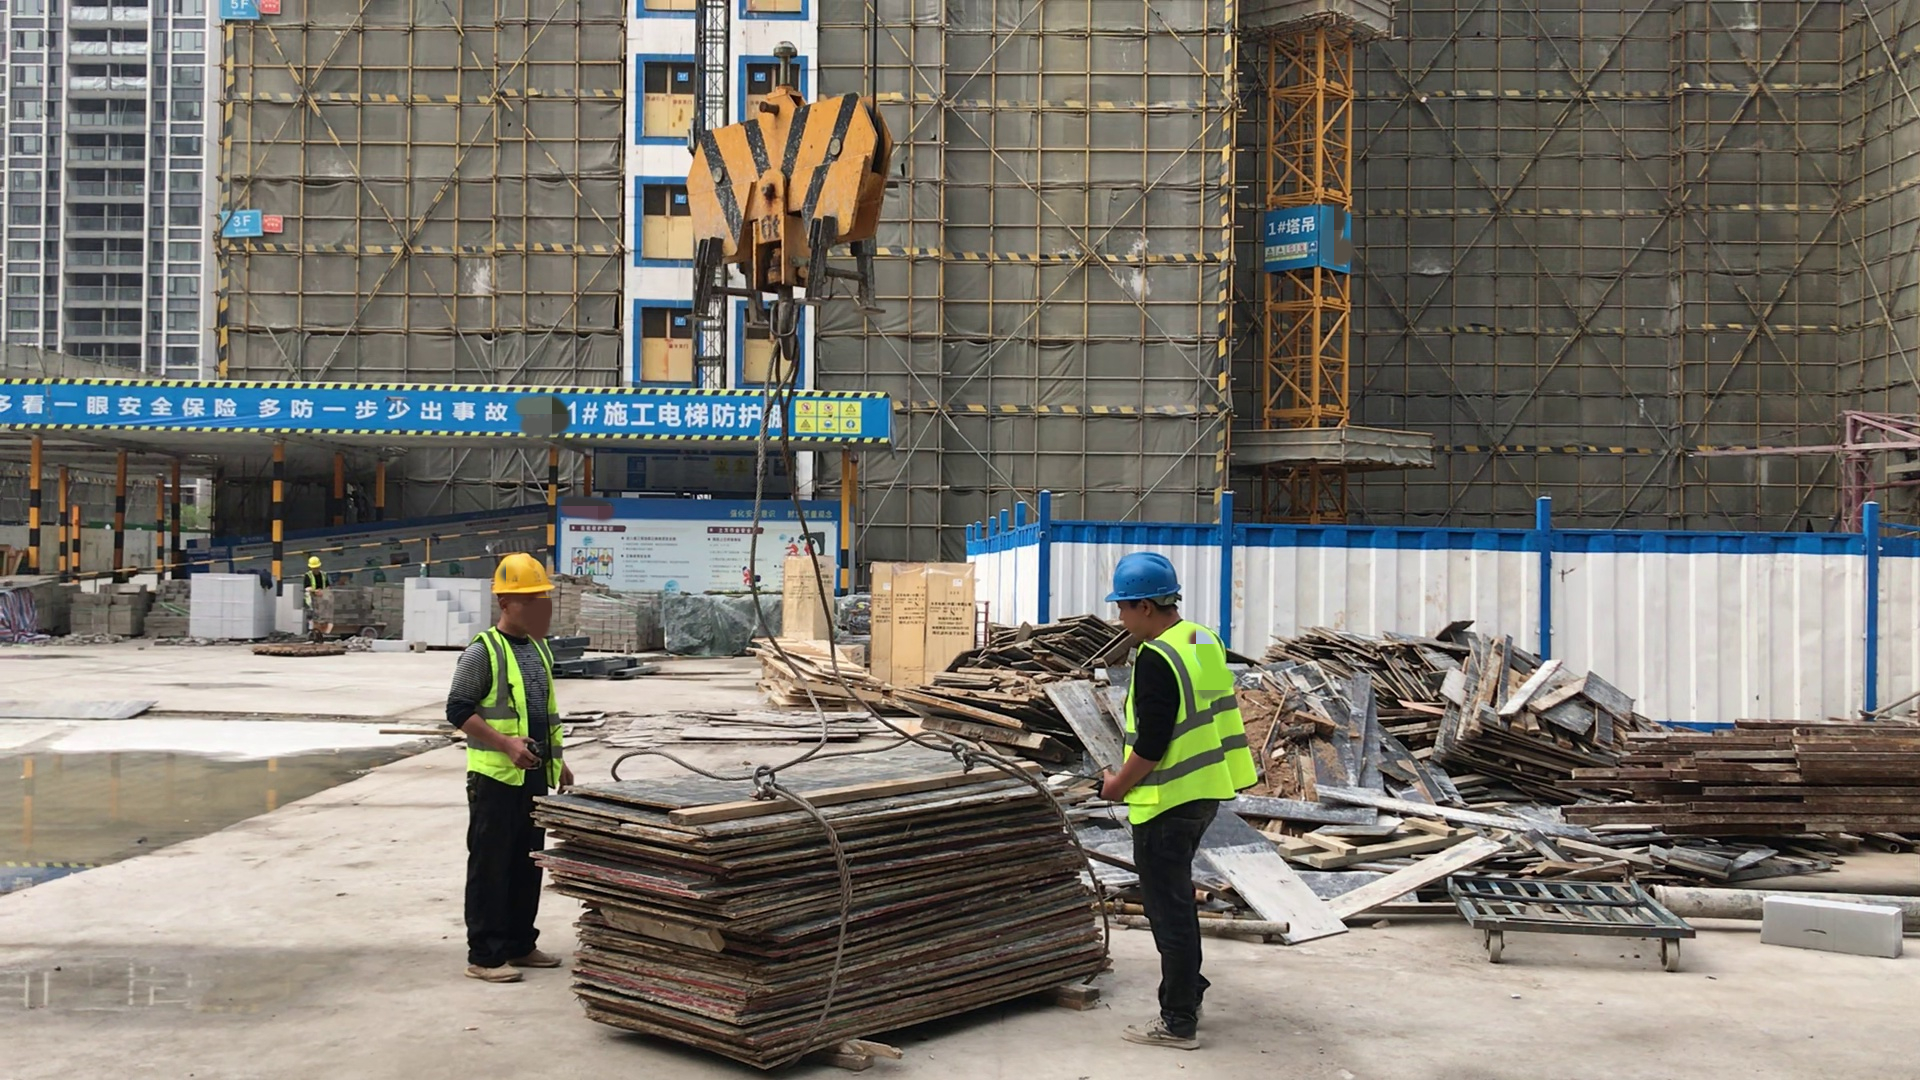board: (522, 756, 1113, 1066)
brick: (191, 572, 301, 645), (405, 578, 489, 646)
helmet: (1106, 555, 1181, 601), (491, 553, 554, 597), (306, 556, 322, 569)
hook: (683, 86, 889, 360)
person: (1095, 553, 1248, 1056), (452, 552, 573, 985), (299, 552, 336, 585)
slogan: (8, 392, 521, 426), (792, 396, 866, 435), (1264, 243, 1317, 261)
vest: (1121, 621, 1251, 827), (468, 630, 563, 793), (305, 571, 326, 585)
